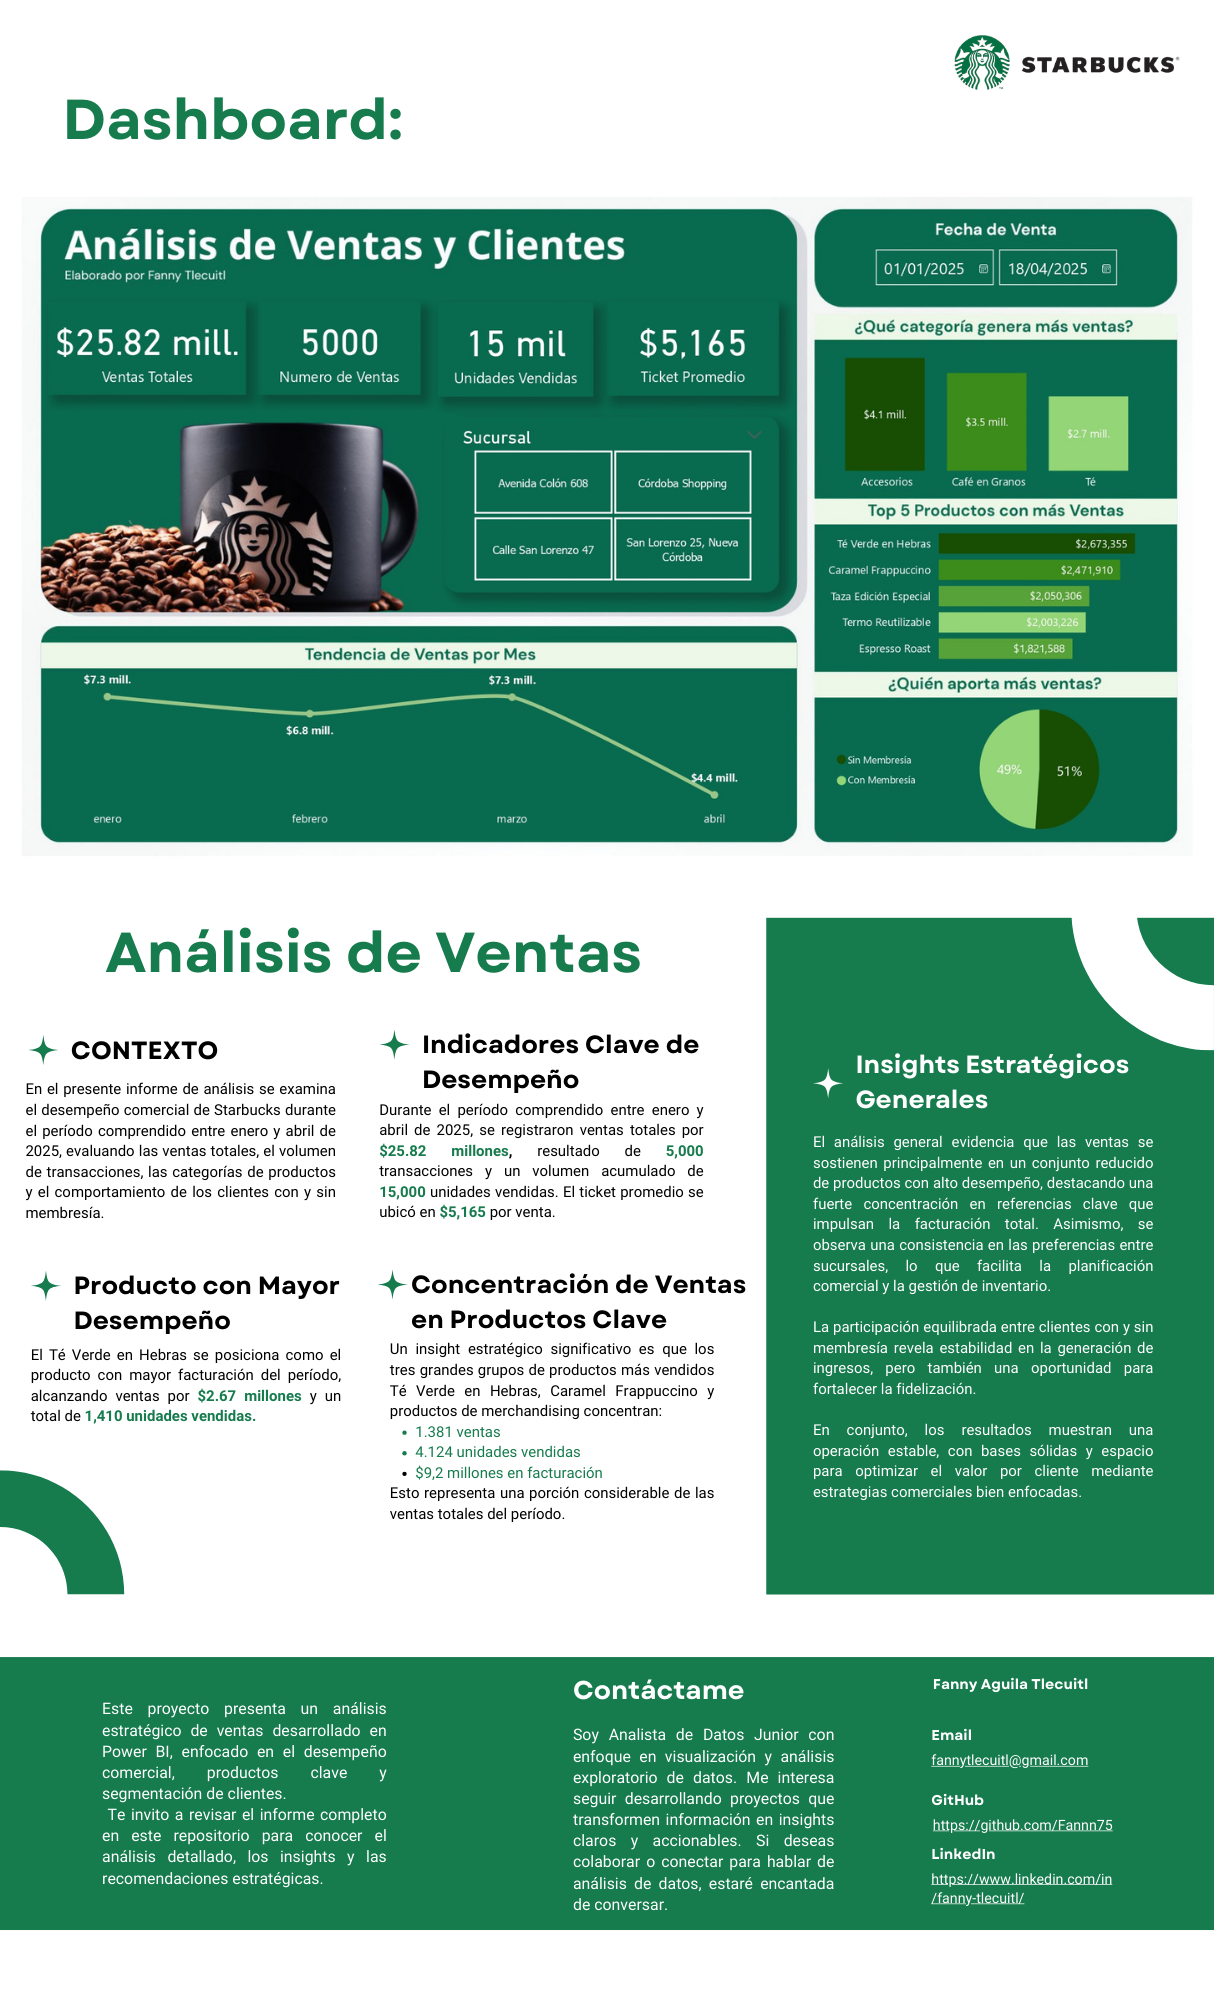

Layout of this report page (visuals, bound fields, positions):
{"tool":"powerbi","page":{"name":"Página 1","canvas":[1280,720],"ordinal":0},"visuals":[{"type":"card","fields":{"Values":["Sum(ventas_starbucks_2025.Total_Venta)"]},"box":[28.6,113.6,216.4,102.9],"z":0},{"type":"card","fields":{"Values":["Sum(ventas_starbucks_2025.Cantidad)"]},"box":[455,115,170,103.3],"z":1000},{"type":"card","fields":{"Values":["ventas_starbucks_2025.Numero de Ventas"]},"box":[257.9,113.6,178.6,102.9],"z":2000},{"type":"lineChart","fields":{"Category":["ventas_starbucks_2025.Fecha.Variación.Jerarquía de fechas.Mes"],"Y":["Sum(ventas_starbucks_2025.Total_Venta)"]},"box":[0,507.5,850.7,190.3],"z":3000},{"type":"barChart","fields":{"Category":["ventas_starbucks_2025.Nombre_Producto"],"Y":["Sum(ventas_starbucks_2025.Total_Venta)"]},"box":[868.6,343.2,411.5,178.9],"z":4000},{"type":"pieChart","title":"Miembros vs No Miembros","fields":{"Category":["ventas_starbucks_2025.Cliente_Miembro"],"Y":["Sum(ventas_starbucks_2025.Total_Venta)"]},"box":[885.7,531.4,358.6,188.6],"z":5000},{"type":"columnChart","fields":{"Category":["ventas_starbucks_2025.Categoría_Producto"],"Y":["Sum(ventas_starbucks_2025.Total_Venta)","select"]},"box":[850.7,136.6,413.1,191.9],"z":6000},{"type":"slicer","fields":{"Values":["ventas_starbucks_2025.Fecha"]},"box":[921.4,47.1,285.7,58.6],"z":7000},{"type":"slicer","fields":{"Values":["ventas_starbucks_2025.Sucursal"]},"box":[463.3,240,365,191.7],"z":8000},{"type":"card","fields":{"Values":["ventas_starbucks_2025.Ticket Promedio"]},"box":[640,114.4,187.8,102.2],"z":9000}]}

Visuals, with their boxes on the page's 1280x720 design canvas (x1, y1, x2, y2). These are canvas units, not pixel positions in the 1214x2000 screenshot, which may show the page scaled, cropped or inside an application window:
card - Sum(ventas_starbucks_2025.Total_Venta): bbox=[29, 114, 245, 216]
card - Sum(ventas_starbucks_2025.Cantidad): bbox=[455, 115, 625, 218]
card - ventas_starbucks_2025.Numero de Ventas: bbox=[258, 114, 436, 216]
lineChart - ventas_starbucks_2025.Fecha.Variación.Jerarquía de fechas.Mes x Sum(ventas_starbucks_2025.Total_Venta): bbox=[0, 508, 851, 698]
barChart - ventas_starbucks_2025.Nombre_Producto x Sum(ventas_starbucks_2025.Total_Venta): bbox=[869, 343, 1280, 522]
"Miembros vs No Miembros" pieChart: bbox=[886, 531, 1244, 720]
columnChart - ventas_starbucks_2025.Categoría_Producto x Sum(ventas_starbucks_2025.Total_Venta): bbox=[851, 137, 1264, 328]
slicer - ventas_starbucks_2025.Fecha: bbox=[921, 47, 1207, 106]
slicer - ventas_starbucks_2025.Sucursal: bbox=[463, 240, 828, 432]
card - ventas_starbucks_2025.Ticket Promedio: bbox=[640, 114, 828, 217]
